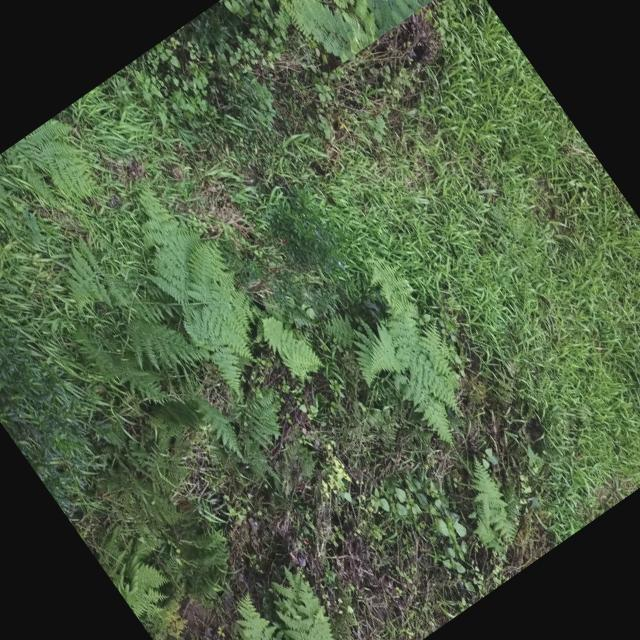Mysore-Thorn-Weed: (257, 0, 468, 72)
